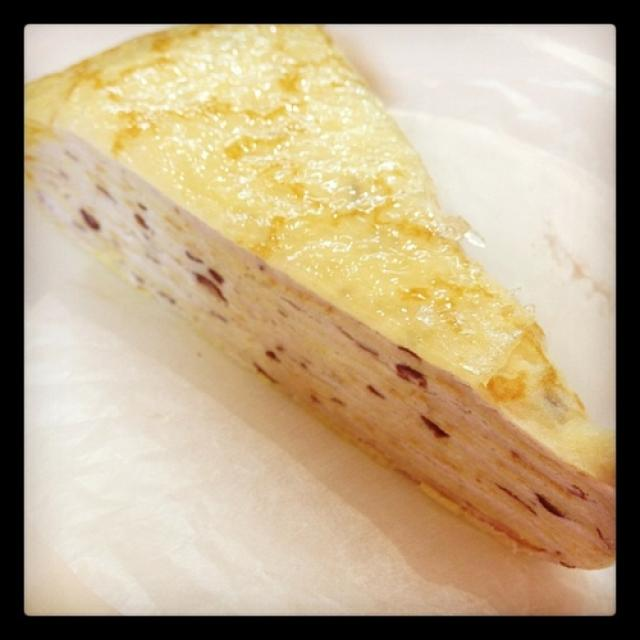蛋糕甜品: (48, 40, 592, 591)
